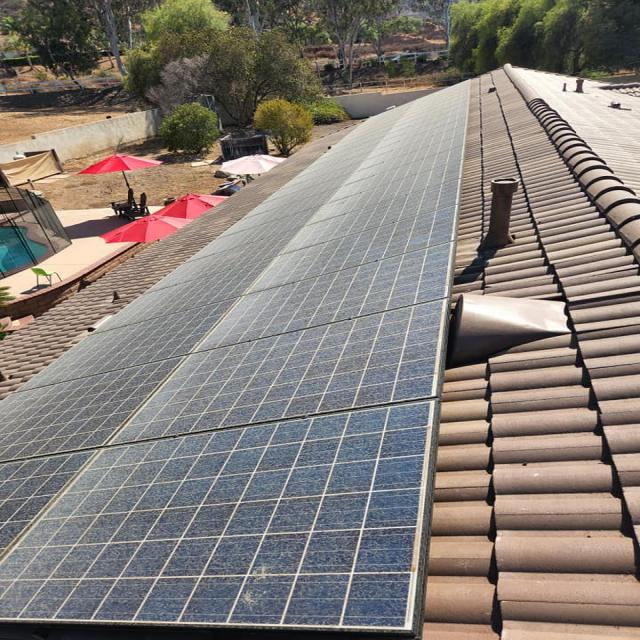dust-solar-panel: (0, 77, 473, 630)
